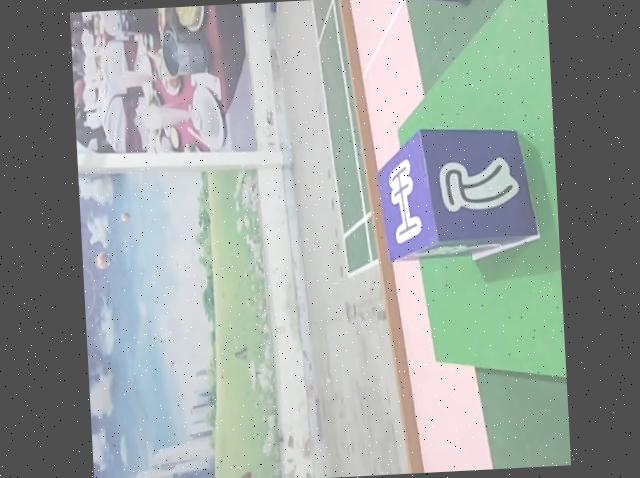R2 Fake Blue: (375, 124, 541, 265)
